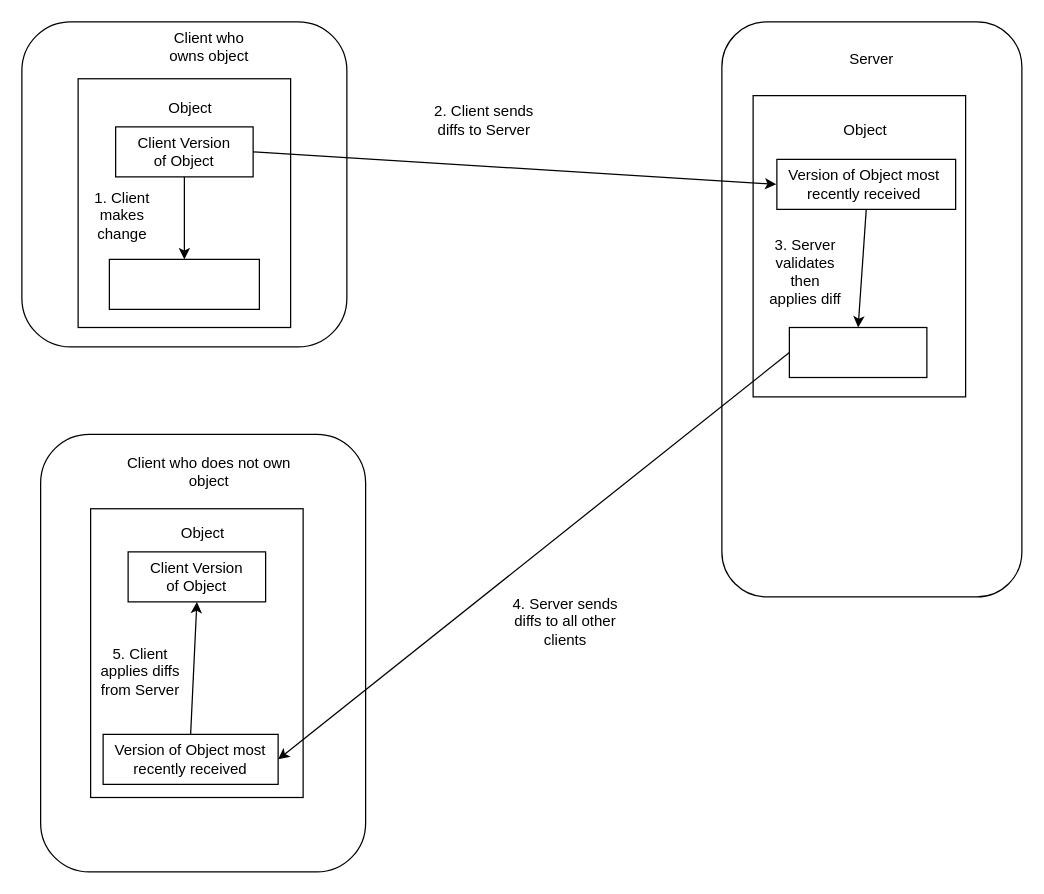
The diagram is 1044 pixels wide and 894 high, and some of its shapes have lost their labels. Here are the shapes that lost their labels. From the top down, the centre of each, then its label:
[183,283]: Version of Object most recently sent
[857,352]: Server Version of Object
